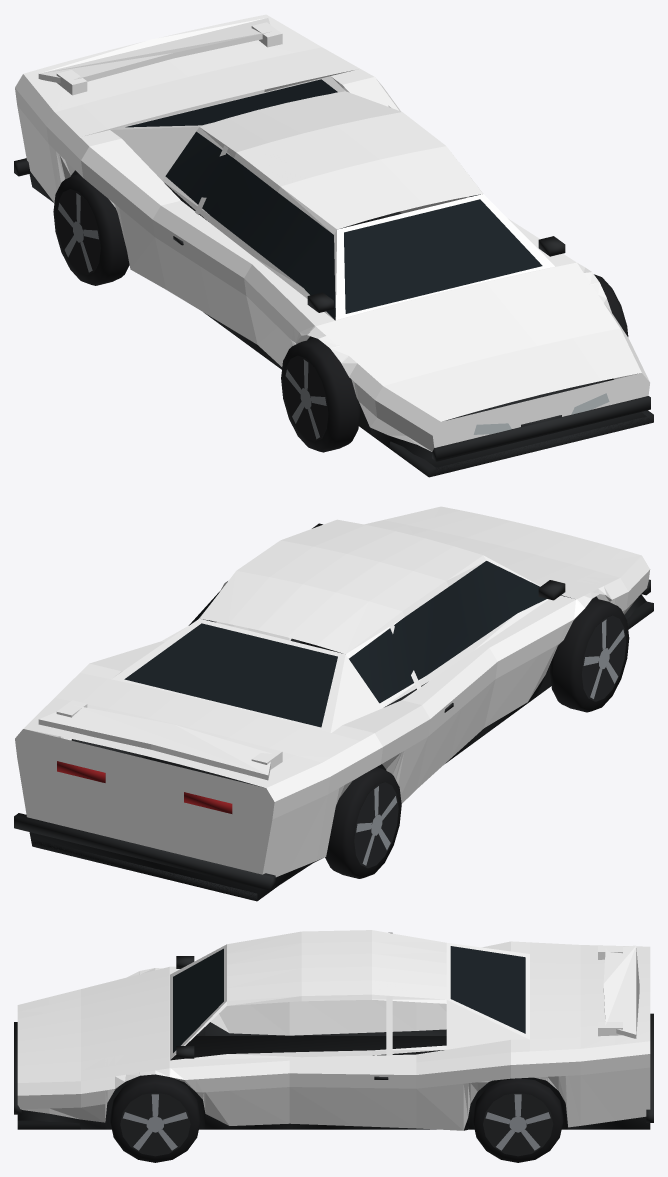
Rendered from calderwood_nectar.glb.
3 views of the same model, one above another, from view 1: azimuth 30°, elevation 25°; view 2: azimuth 150°, elevation 25°; view 3: azimuth 270°, elevation 25° (orthographic). The views are drawn at different scales.
Parts seen in each view (by area): view 1: Body_Paint, Body_Details, Mount_FrontLeft_Wheel_Details, Mount_RearLeft_Wheel_Details; view 2: Body_Paint, Body_Details, Mount_FrontLeft_Wheel_Details, Mount_RearLeft_Wheel_Details; view 3: Body_Paint, Body_Details, Mount_FrontRight_Wheel_Details, Mount_RearRight_Wheel_Details.
Boxes of the visible parts, x1,y1,x2,y2 form: Body_Paint: (15, 14, 649, 451); Body_Details: (14, 79, 653, 477); Mount_FrontLeft_Wheel_Details: (281, 338, 360, 452); Mount_RearLeft_Wheel_Details: (53, 174, 129, 285); Body_Paint: (15, 506, 650, 877); Body_Details: (14, 523, 653, 901); Mount_FrontLeft_Wheel_Details: (550, 598, 629, 712); Mount_RearLeft_Wheel_Details: (325, 767, 401, 878); Body_Paint: (17, 930, 650, 1130); Body_Details: (14, 946, 653, 1130); Mount_FrontRight_Wheel_Details: (110, 1074, 200, 1162); Mount_RearRight_Wheel_Details: (473, 1078, 563, 1162).
Size of the model in its own units: 2 by 1.17 by 4.61.
Materials: 2 (1 with a texture image).
